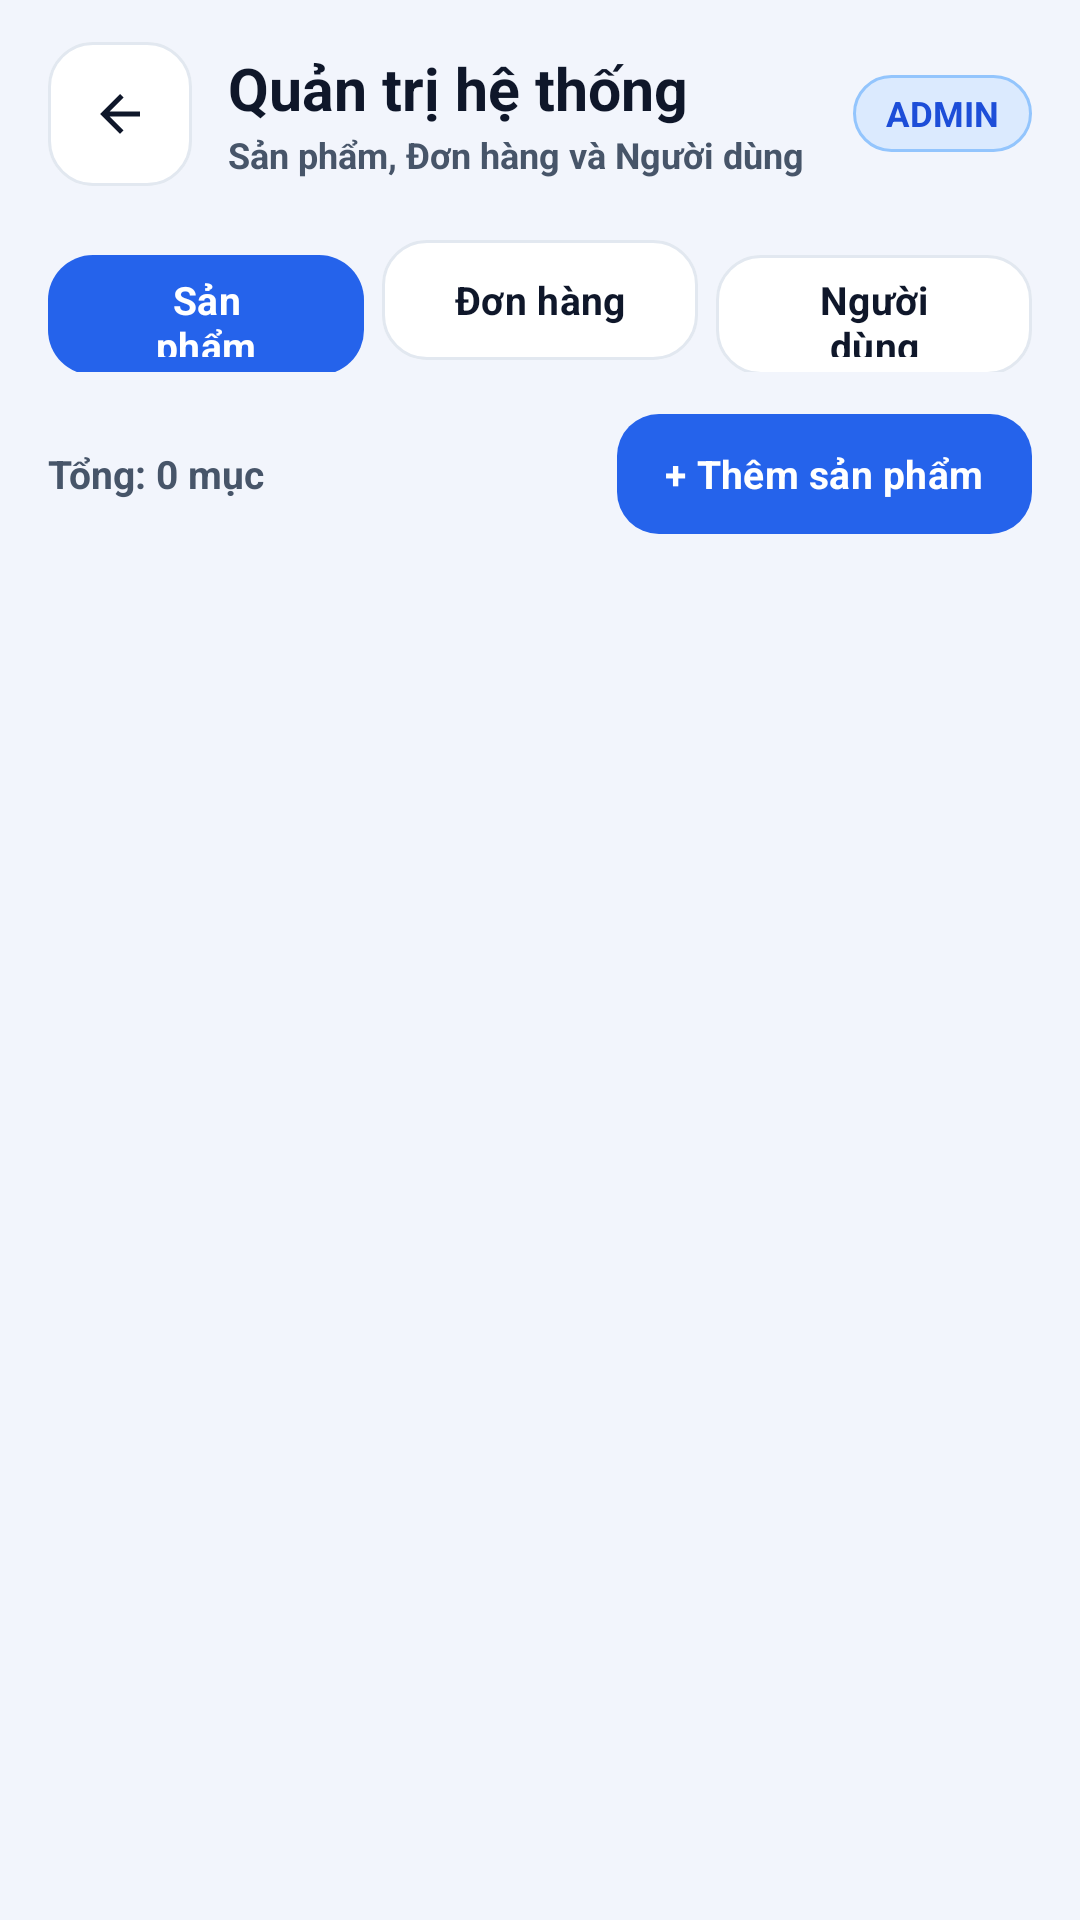

Screen size 1080x1920. Icon name, then its box in pixels as [left=x1, top=y1, right=x2, bottom=y2]:
Quay lại: [left=48, top=42, right=192, bottom=186]
